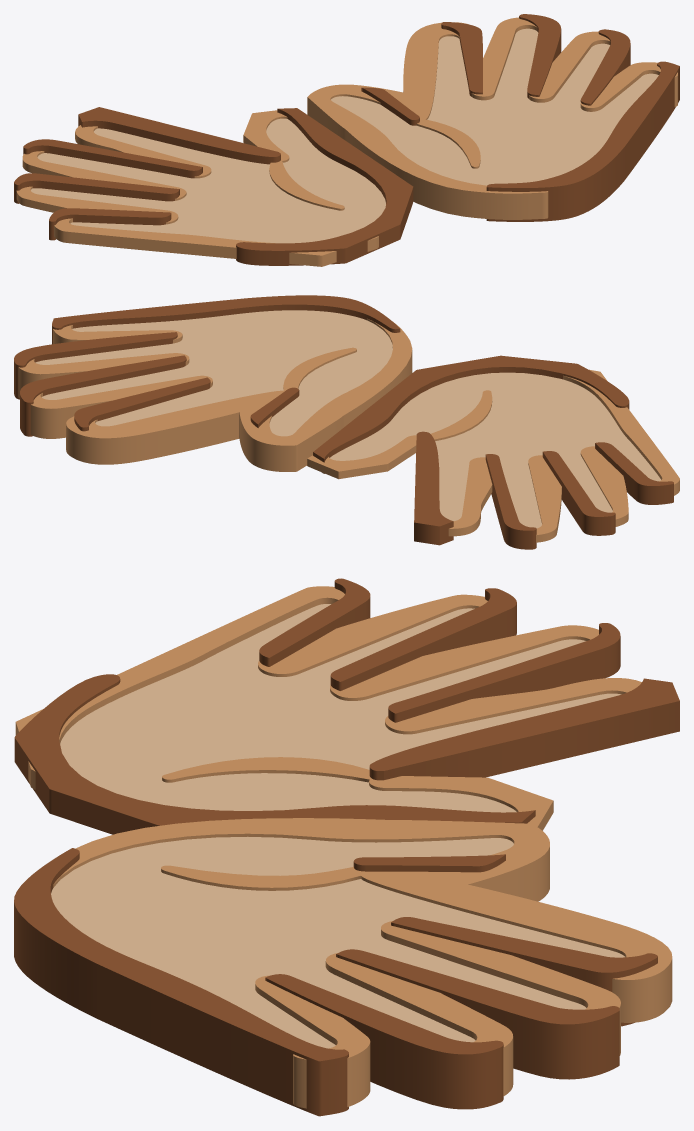
The model's file is emoji_u1f450_1f3fc.glb.
3 views of the same model, one above another, from view 1: azimuth 30°, elevation 25°; view 2: azimuth 150°, elevation 25°; view 3: azimuth 270°, elevation 25° (orthographic). The views are drawn at different scales.
Visible parts, largest first — view 1: emoji_u1f450_1f3fc; view 2: emoji_u1f450_1f3fc; view 3: emoji_u1f450_1f3fc.
Boxes of the visible parts, <box> form: emoji_u1f450_1f3fc: <box>14,14,679,266</box>; emoji_u1f450_1f3fc: <box>14,295,679,549</box>; emoji_u1f450_1f3fc: <box>14,578,679,1116</box>.
Size of the model in its own units: 0.0347 by 0.0018 by 0.0197.
